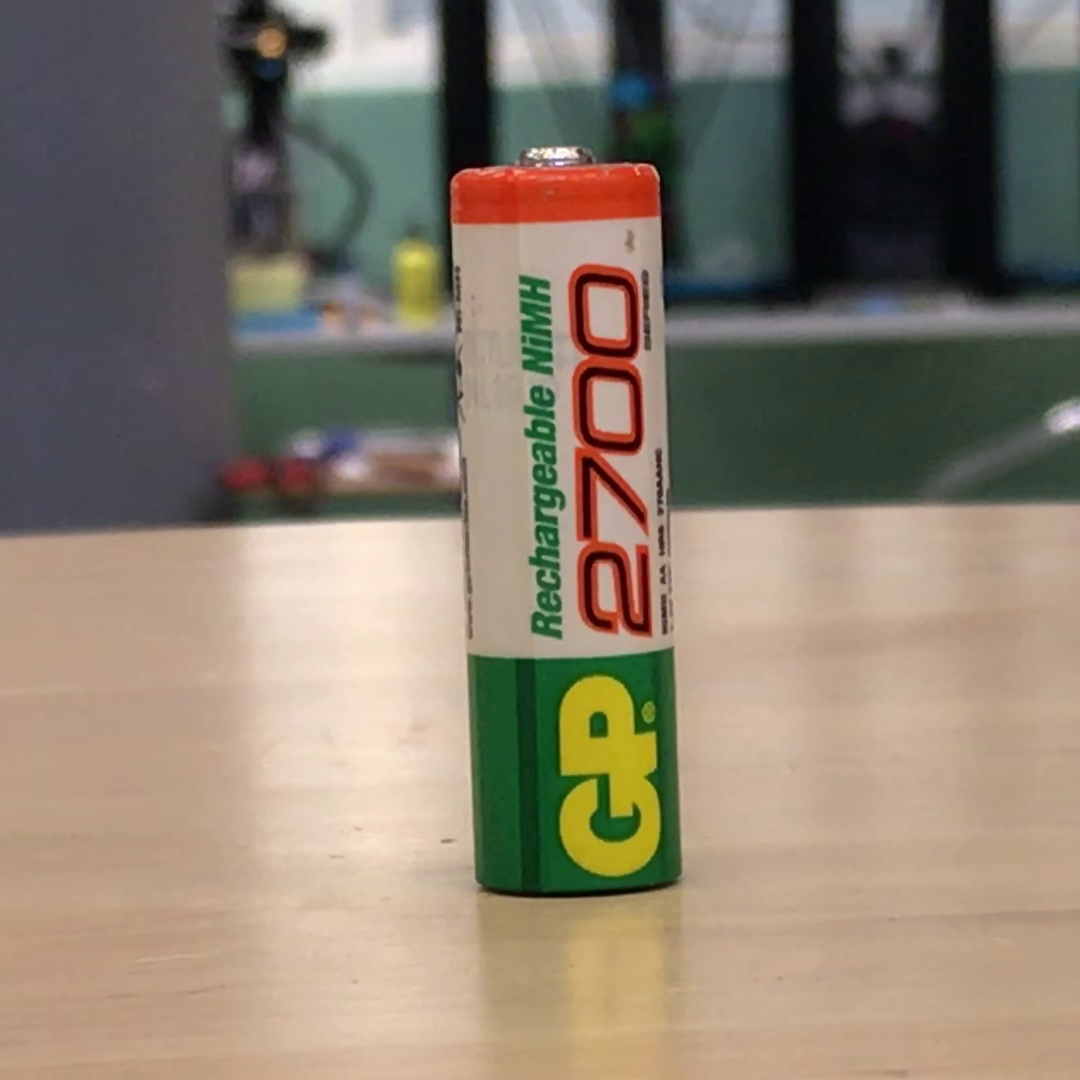keyword: (509, 266, 563, 385)
